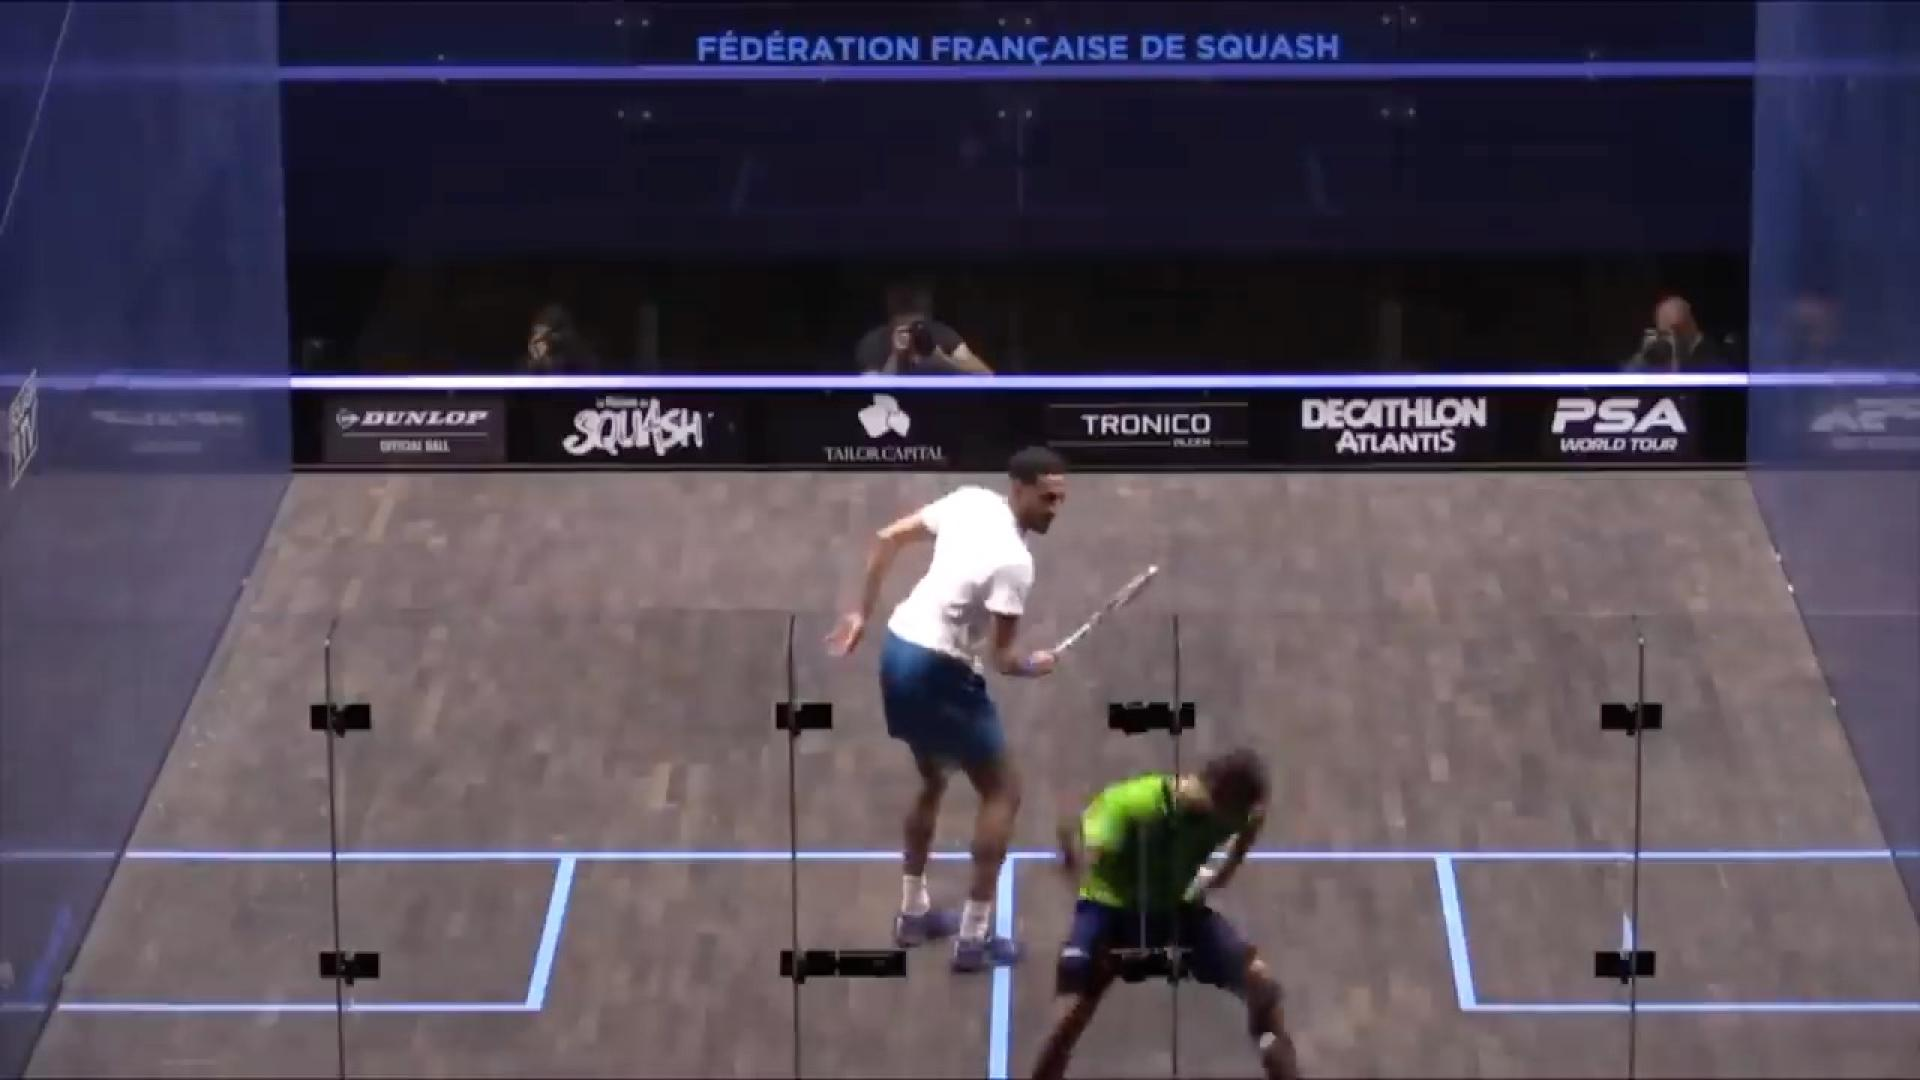Squash-Ball: (1255, 1025, 1284, 1065)
